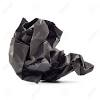crumpled paper: (7, 18, 93, 84)
